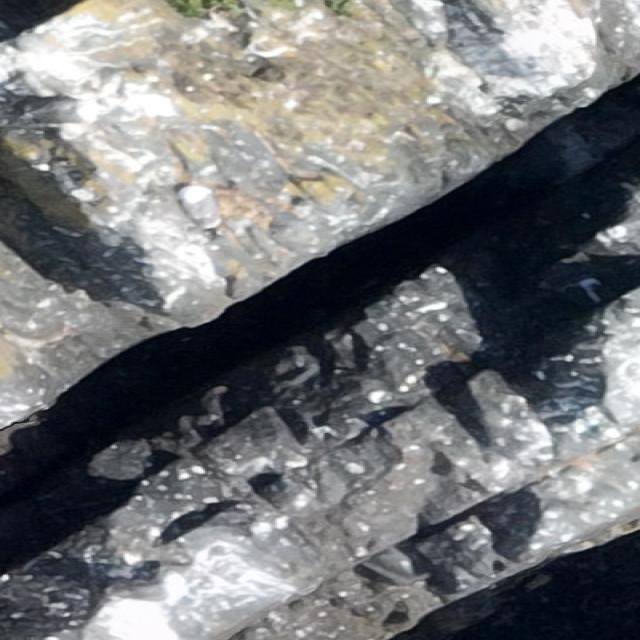umineko: (120, 569, 190, 603), (26, 101, 98, 129), (182, 184, 222, 232)
